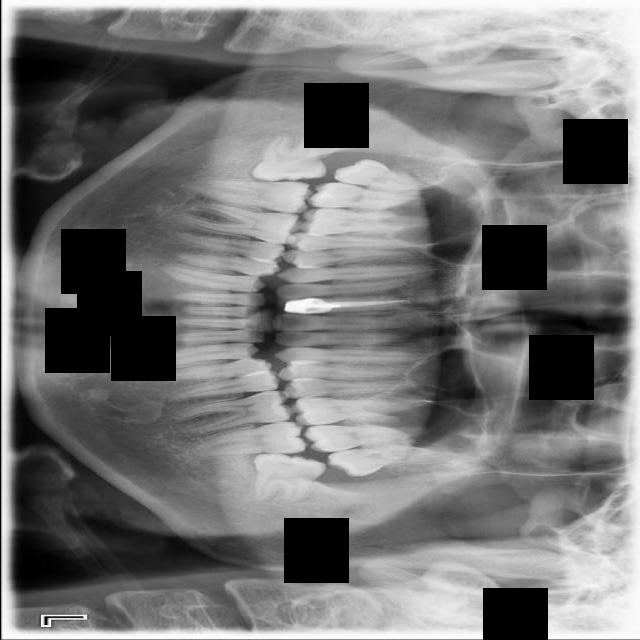3M ESPE Implant: (331, 153, 438, 198)
52: (307, 182, 360, 208), (277, 296, 326, 316)
73: (324, 294, 411, 314), (48, 594, 62, 600)
BioHorizons Implant: (304, 425, 429, 452)
BioLife Implant: (324, 440, 444, 480)
Biomet 3i Implant: (249, 450, 326, 508)
Blue Sky Bio Implant: (189, 421, 309, 457)
Caries: (307, 181, 428, 211)
Implant: (189, 177, 312, 215)
Keystone Dental Implant: (249, 130, 326, 184)
